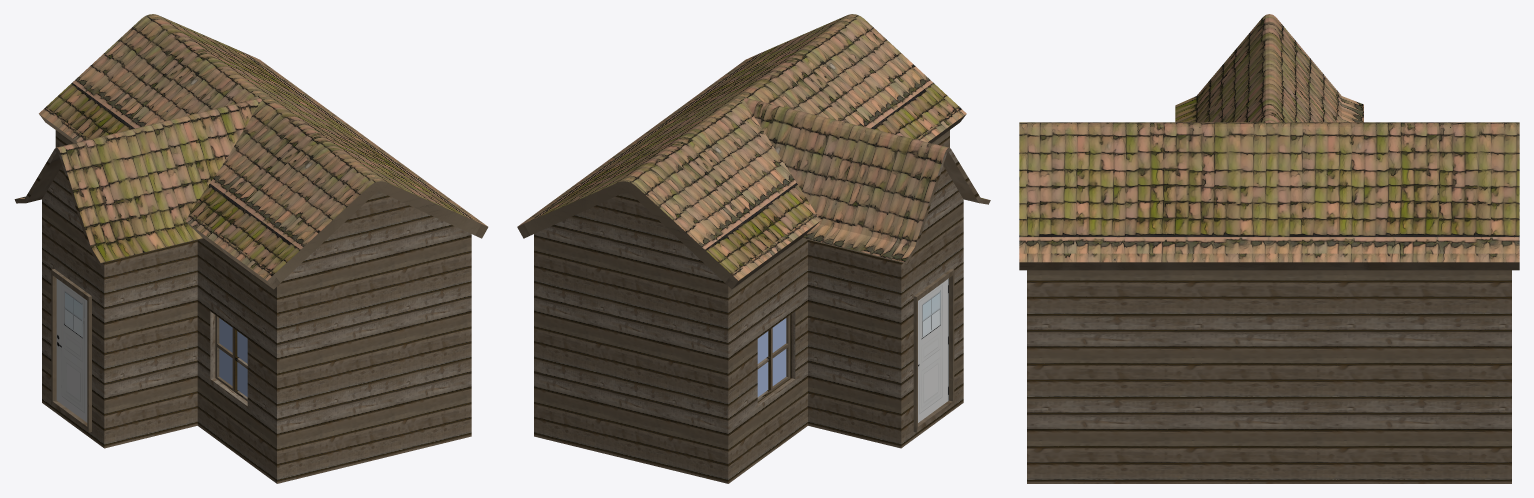
File: house2.fbx
3 renders of one model, left to right at view 1: azimuth 30°, elevation 25°; view 2: azimuth 150°, elevation 25°; view 3: azimuth 270°, elevation 25°, orthographic. The views are drawn at different scales.
Parts seen in each view (by area): view 1: HouseWalls, Roof, Roof2, Door, Window; view 2: HouseWalls, Roof, Roof2, Door, Window; view 3: HouseWalls, Roof, Roof2.
Boxes of the visible parts, x1=… form: HouseWalls: x1=42, y1=130, x2=471, y2=483; Roof: x1=39, y1=14, x2=488, y2=289; Roof2: x1=14, y1=98, x2=261, y2=264; Door: x1=51, y1=269, x2=91, y2=432; Window: x1=215, y1=315, x2=247, y2=401; HouseWalls: x1=534, y1=130, x2=963, y2=483; Roof: x1=517, y1=14, x2=966, y2=289; Roof2: x1=743, y1=98, x2=990, y2=263; Door: x1=913, y1=269, x2=954, y2=432; Window: x1=757, y1=315, x2=790, y2=401; HouseWalls: x1=1027, y1=270, x2=1511, y2=483; Roof: x1=1019, y1=122, x2=1519, y2=270; Roof2: x1=1175, y1=14, x2=1363, y2=122.
Size of the model in its own units: 792 by 672 by 989.
